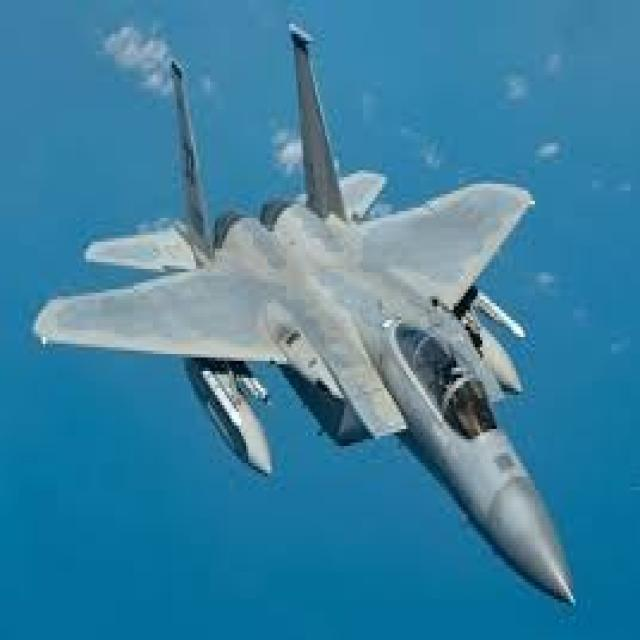F15: (13, 7, 611, 640)
